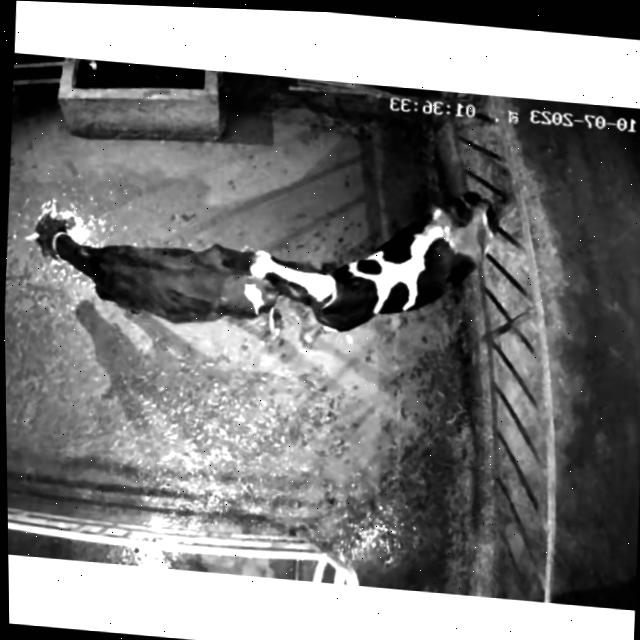propping: (185, 218, 378, 344)
